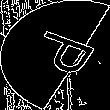P_SE: (14, 27, 96, 83)
